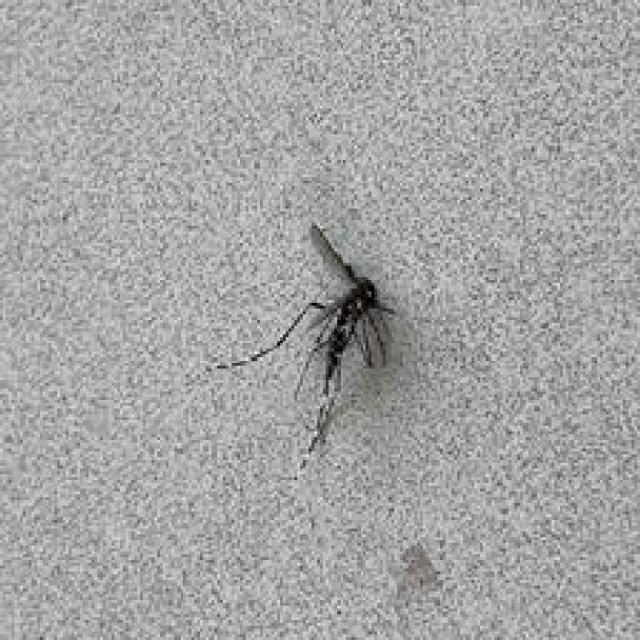Aedes albopictus: (213, 220, 401, 457)
